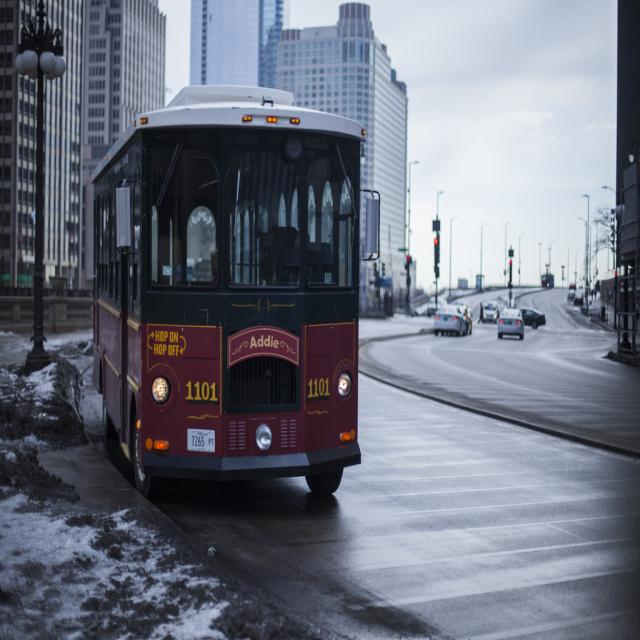car: (429, 299, 467, 334), (493, 307, 525, 337), (574, 289, 582, 305), (568, 283, 574, 296)
